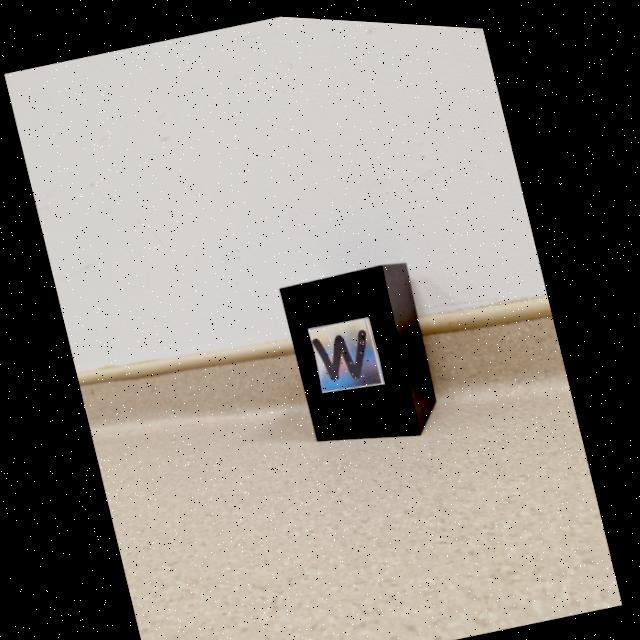W: (313, 324, 367, 376)
